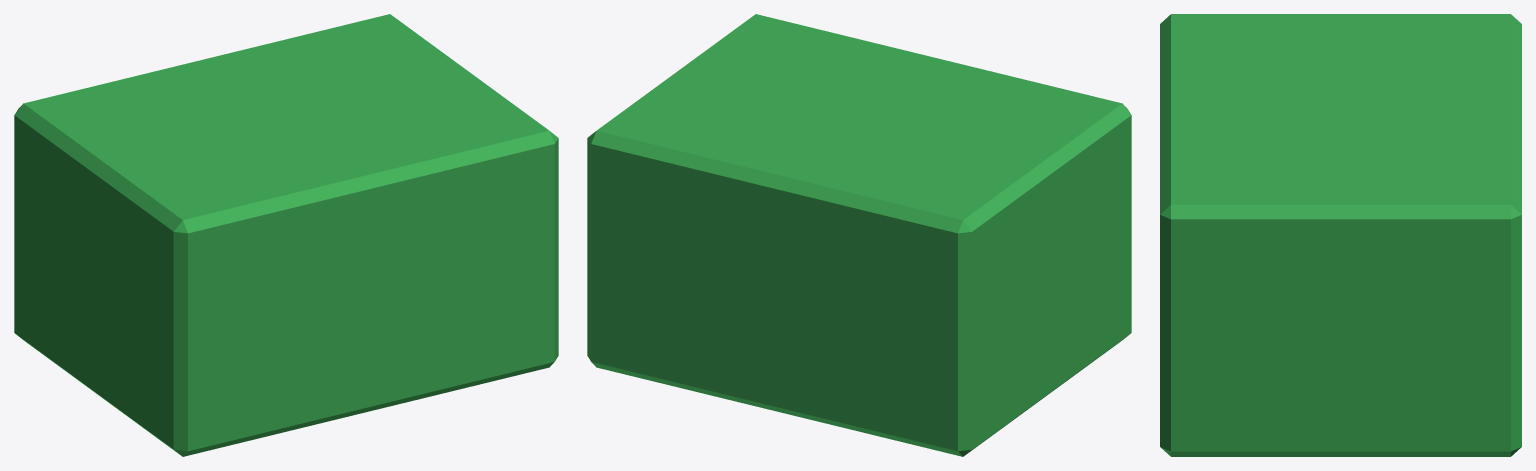
The model's file is tilting_container.glb.
The picture shows the model from 3 angles, left to right: view 1: azimuth 30°, elevation 25°; view 2: azimuth 150°, elevation 25°; view 3: azimuth 270°, elevation 25°; orthographic projection. The views are drawn at different scales.
Visible parts, largest first — view 1: tilting_container; view 2: tilting_container; view 3: tilting_container.
Part boxes in pixels (<box>): tilting_container: <box>14,14,558,456</box>; tilting_container: <box>587,14,1131,456</box>; tilting_container: <box>1160,14,1521,456</box>.
Bounding box in the file's own units: 0.34 × 0.2 × 0.26.
